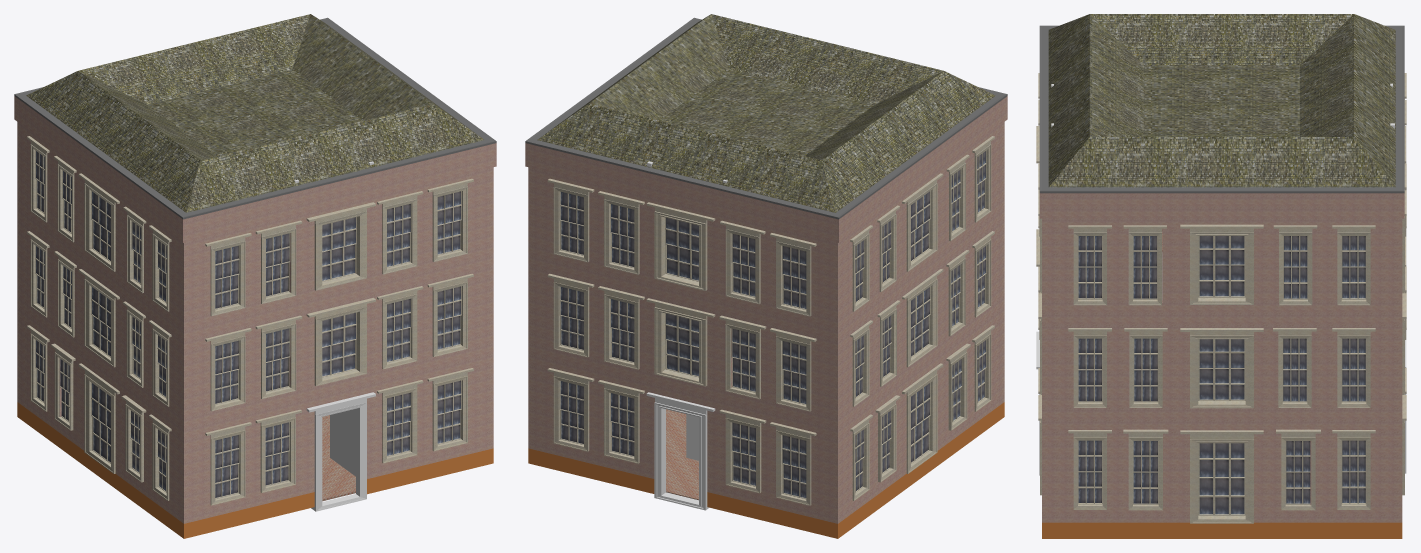
Rendered from tka1.fbx.
The picture shows the model from 3 angles, left to right: view 1: azimuth 30°, elevation 25°; view 2: azimuth 150°, elevation 25°; view 3: azimuth 270°, elevation 25°; orthographic projection. The views are drawn at different scales.
Parts seen in each view (by area): view 1: Plane.006; view 2: Plane.006; view 3: Plane.006.
Boxes of the visible parts, box(x1,y1,x2,y2) form: Plane.006: box(14, 14, 496, 538); Plane.006: box(525, 14, 1007, 538); Plane.006: box(1036, 14, 1406, 538).
Bounding box in the file's own units: 756 × 813 × 707.
Materials: 9 (5 with a texture image).
